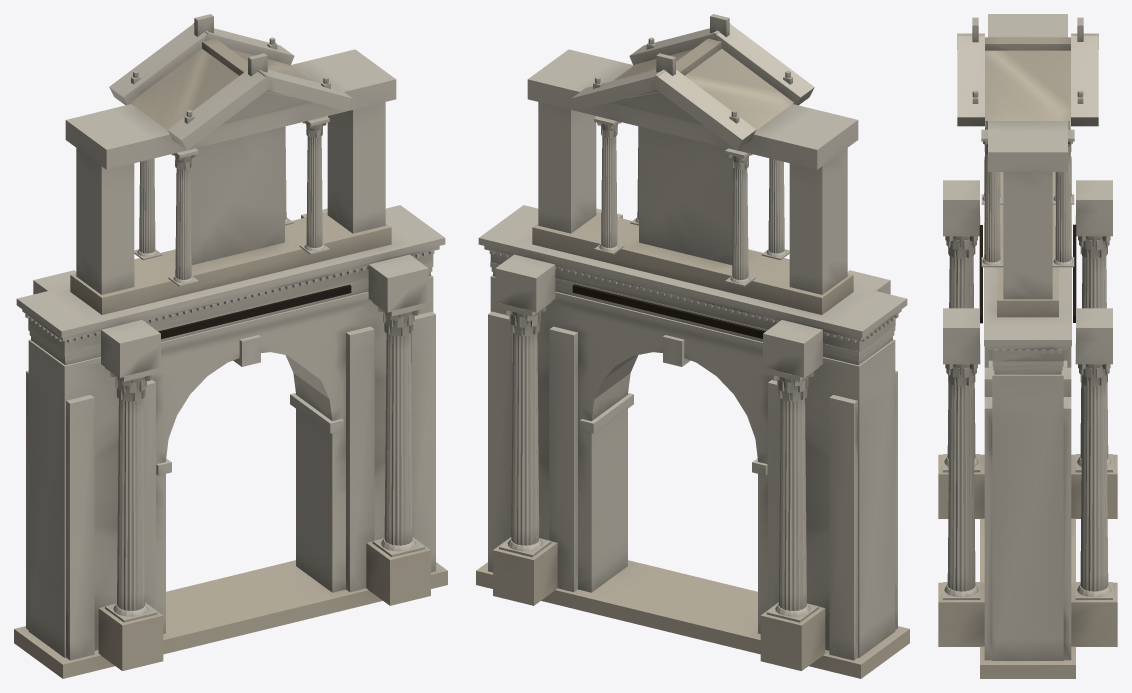
File: hadrians-arch.glb
3 views of the same model, side by side, from view 1: azimuth 30°, elevation 25°; view 2: azimuth 150°, elevation 25°; view 3: azimuth 270°, elevation 25° (orthographic). The views are drawn at different scales.
Parts seen in each view (by area): view 1: p0_arch, p2_attic, p1_columns; view 2: p0_arch, p2_attic, p1_columns; view 3: p1_columns, p2_attic, p0_arch.
Boxes of the visible parts, x1,y1,x2,y2 form: p0_arch: [14, 275, 447, 678]; p2_attic: [65, 14, 396, 314]; p1_columns: [16, 205, 445, 670]; p0_arch: [476, 275, 909, 678]; p2_attic: [527, 14, 858, 314]; p1_columns: [478, 205, 907, 670]; p1_columns: [938, 156, 1117, 646]; p2_attic: [957, 14, 1098, 317]; p0_arch: [980, 346, 1075, 678].
Bounding box in the file's own units: 14.1 × 20.2 × 5.8.
